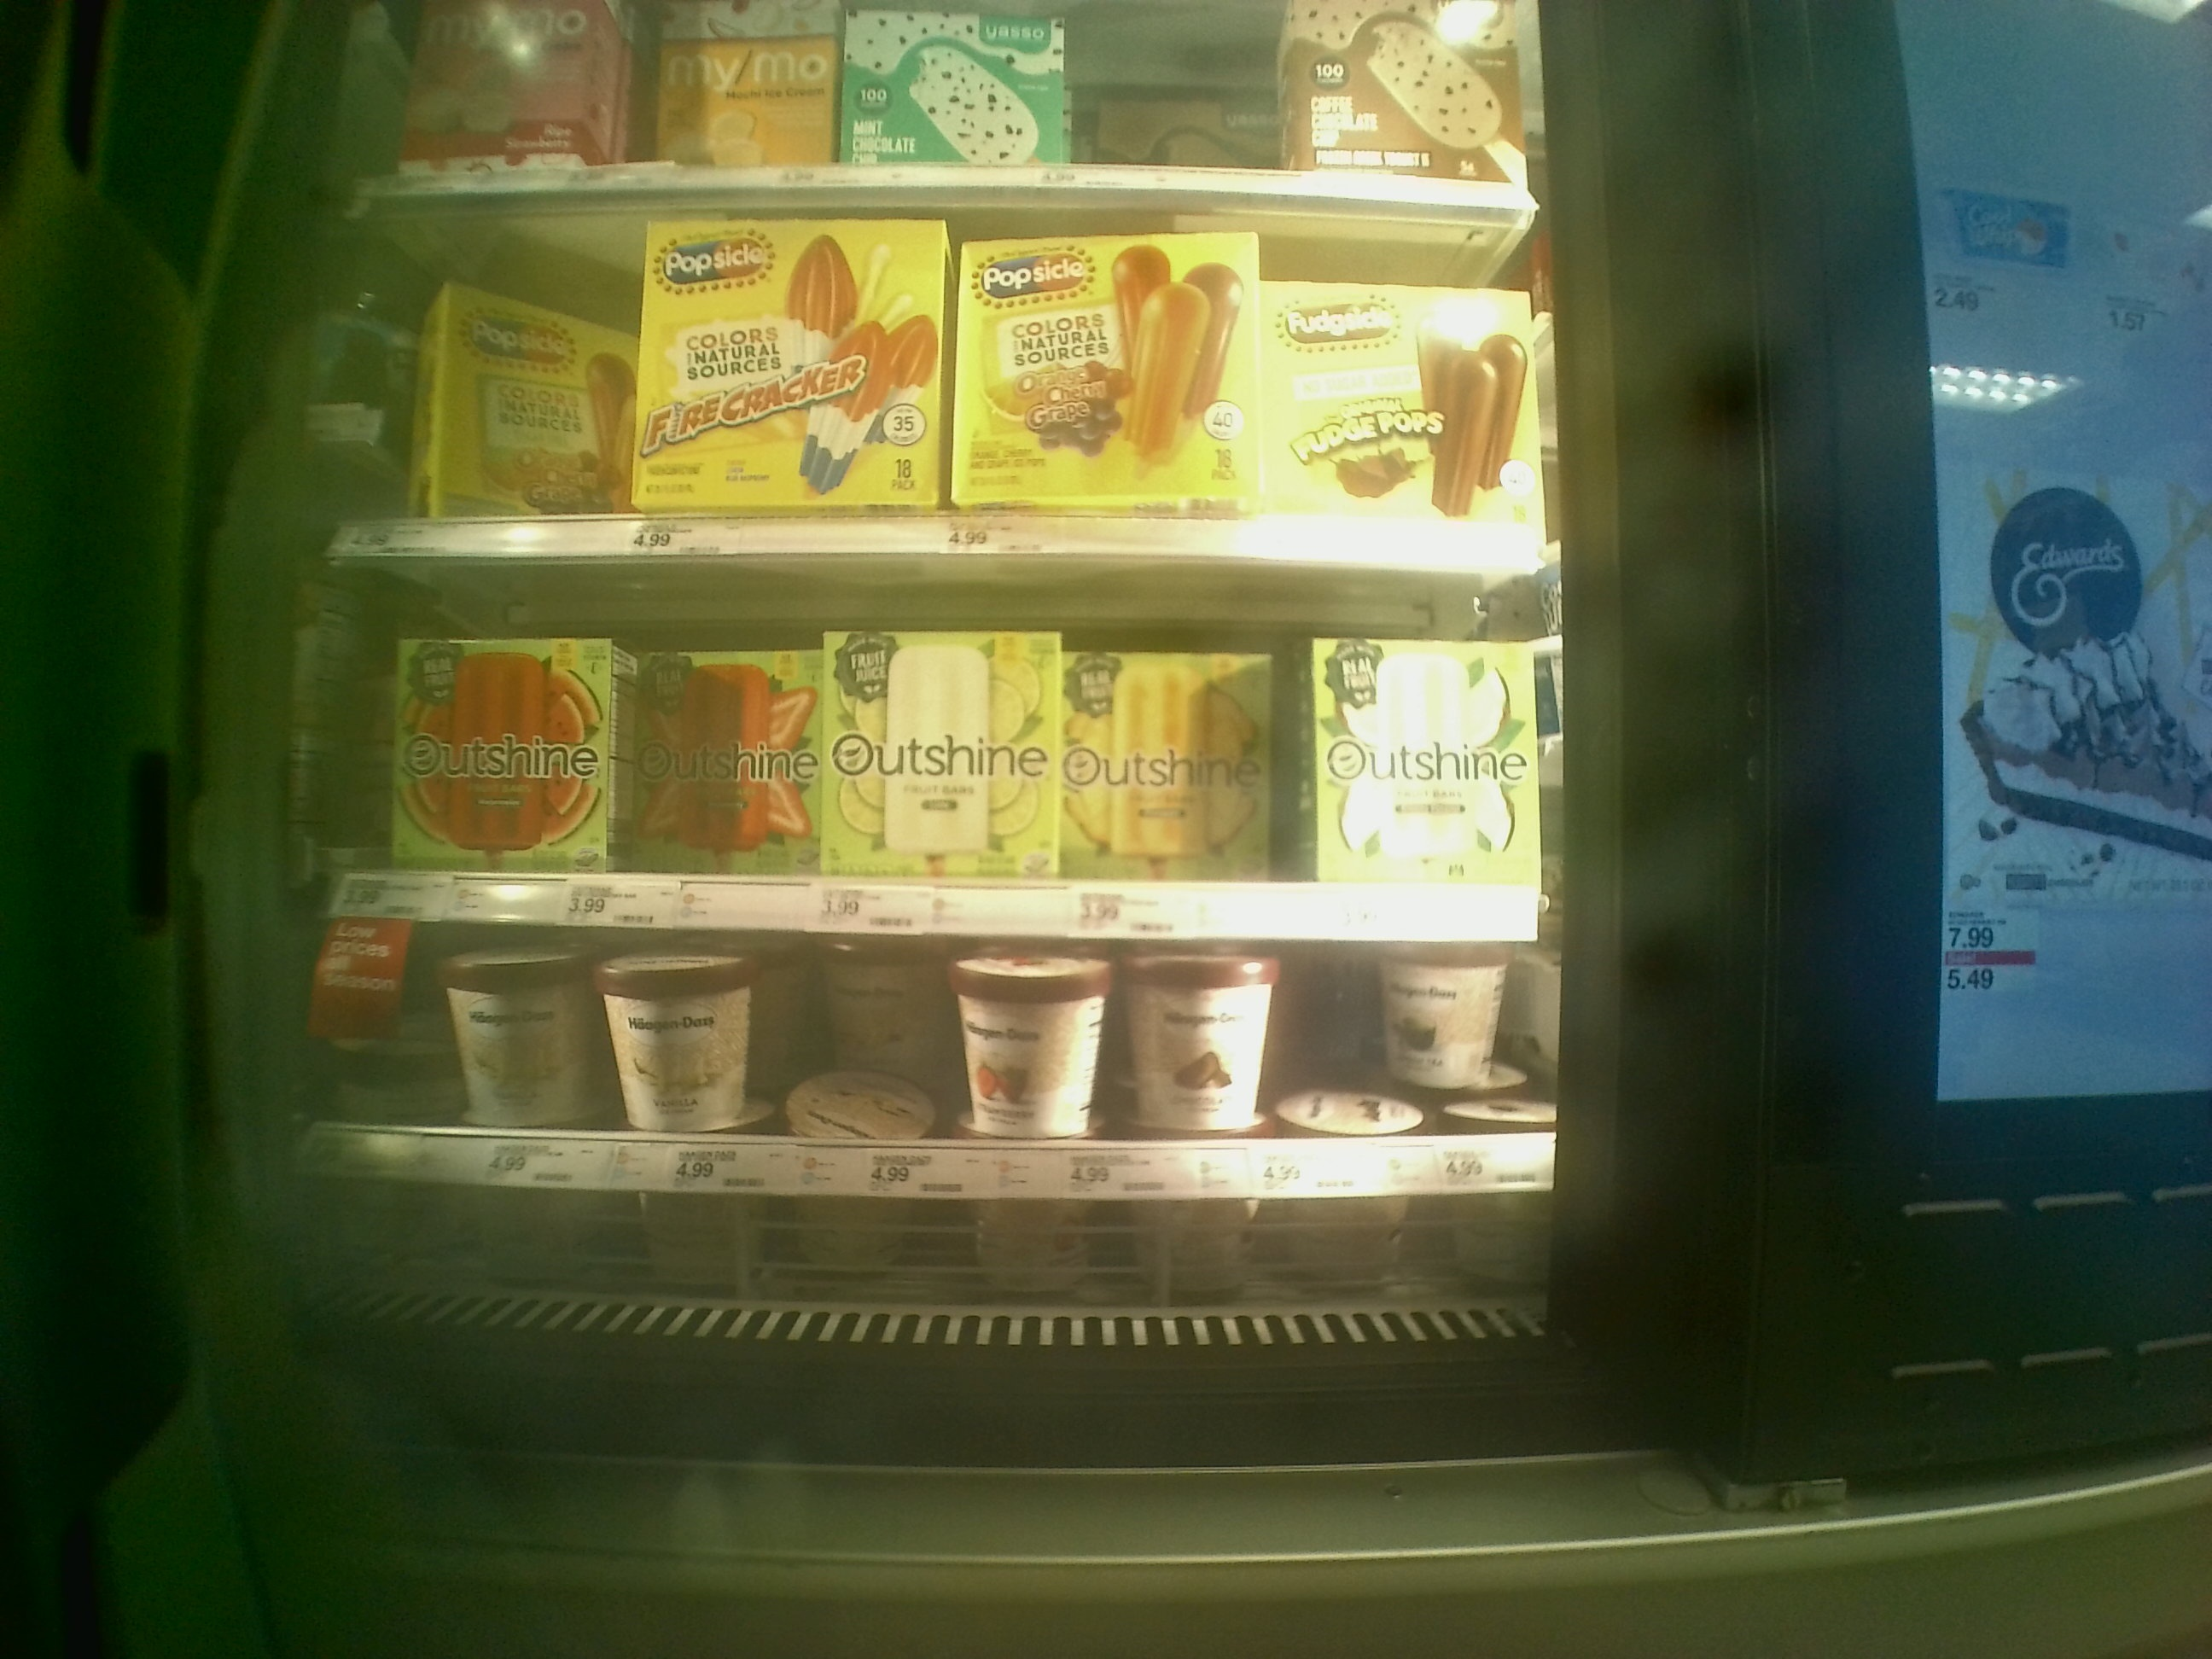shelf: (336, 186, 1571, 561), (347, 561, 1564, 927), (338, 927, 1561, 1281)
